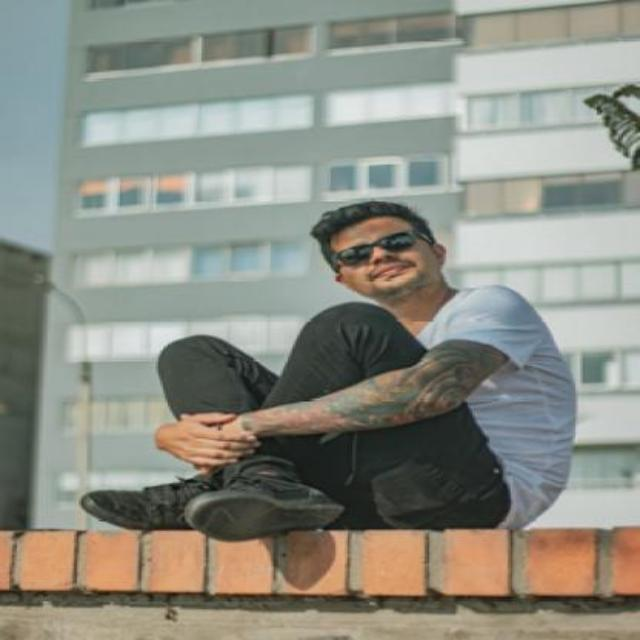sunglasses: (334, 228, 434, 264)
